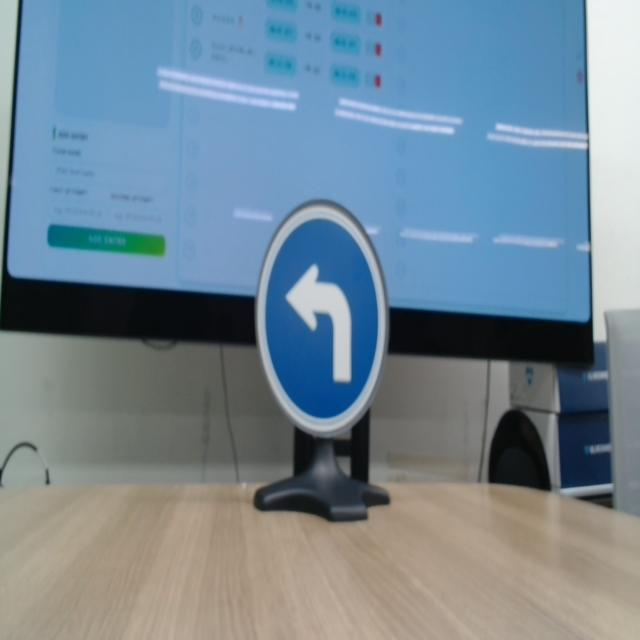left_direction: (233, 166, 417, 464)
